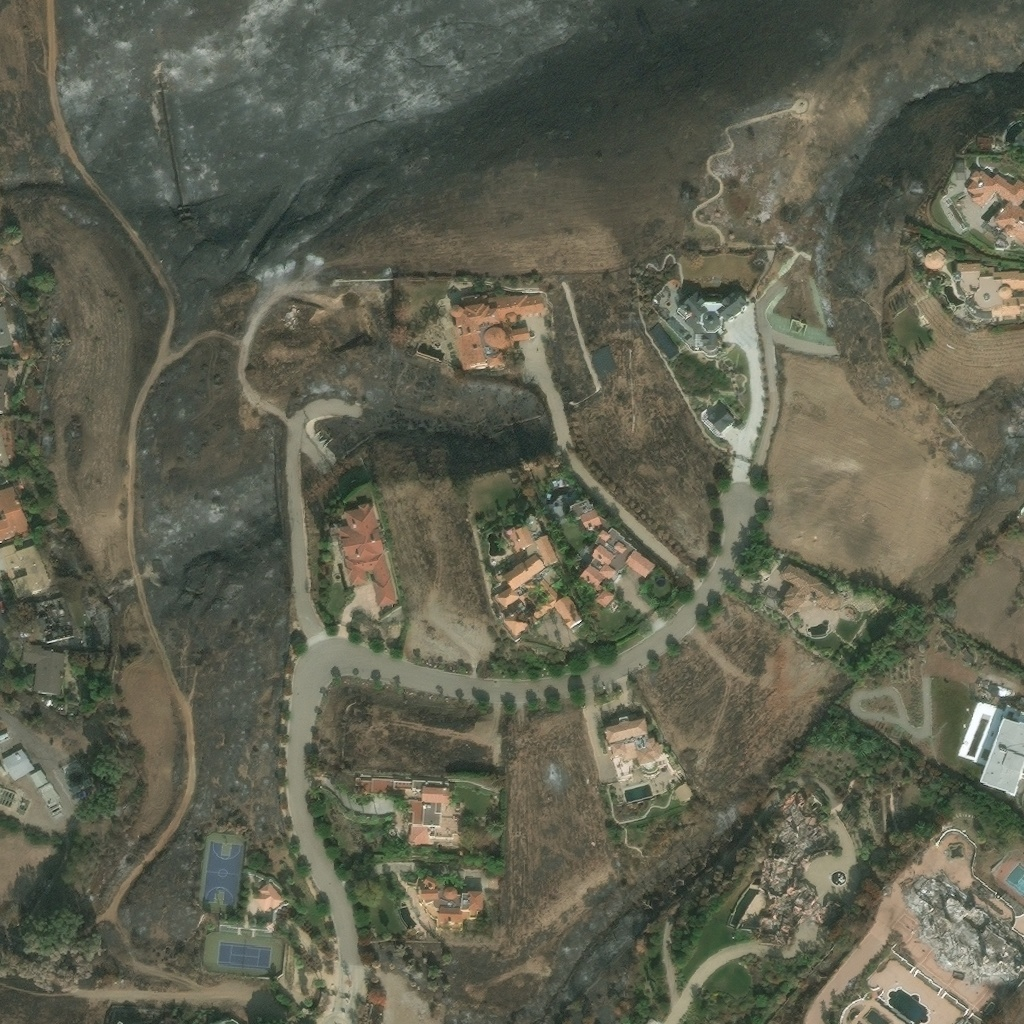0 no-damage: (490, 514, 587, 640), (569, 498, 657, 611), (353, 775, 464, 852), (449, 292, 546, 371), (955, 698, 1023, 798), (335, 502, 400, 606), (953, 261, 1023, 323), (966, 169, 1023, 244), (774, 562, 841, 618), (416, 876, 482, 931), (675, 289, 748, 336), (0, 543, 54, 599), (21, 644, 67, 696), (609, 735, 663, 770), (0, 484, 28, 542), (603, 715, 648, 745), (0, 747, 34, 783), (649, 322, 680, 361), (252, 881, 284, 914), (704, 401, 736, 434), (36, 782, 63, 813), (0, 415, 15, 465), (0, 307, 14, 350), (672, 781, 695, 806), (924, 246, 946, 268), (28, 769, 47, 788), (0, 368, 7, 413)
3 destroyed: (756, 787, 844, 943), (907, 874, 1023, 983), (34, 594, 75, 644)
